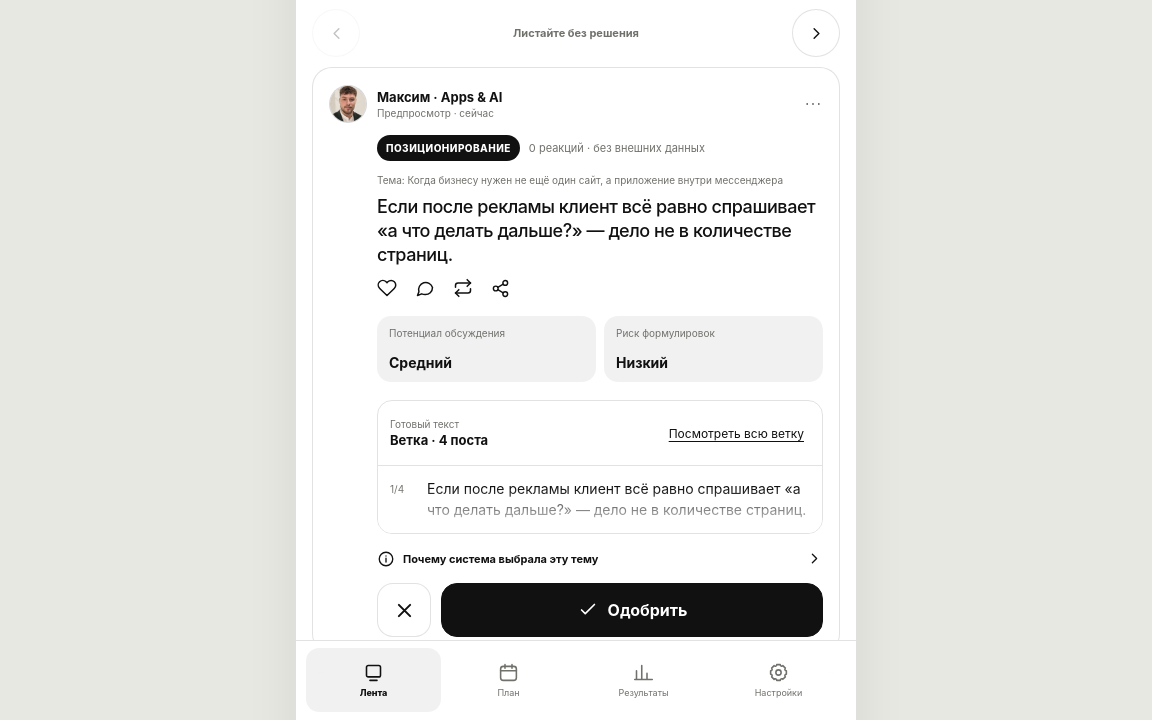
it: touch interactions in the approval feed › recovers after a native capture exception without leaving a swipe lock
(page scrolled)
Press the mouse on the element with class "topic-card" at (576, 361), box 312,67 -> 840,654
Click the button "Посмотреть всю ветку" at (736, 433), box 663,411 -> 810,455
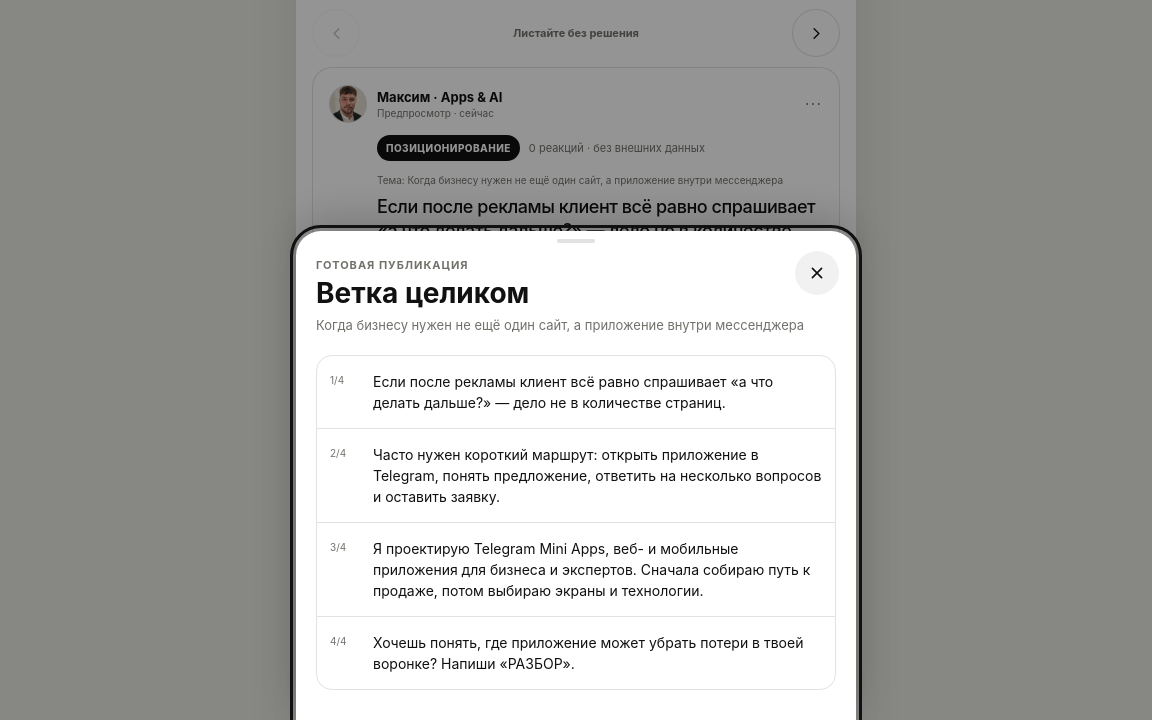
Expected: the number of elements with class "full-thread-segment" is 4, 317,356 -> 835,429; 317,429 -> 835,523; 317,523 -> 835,617; 330,634 -> 803,672
